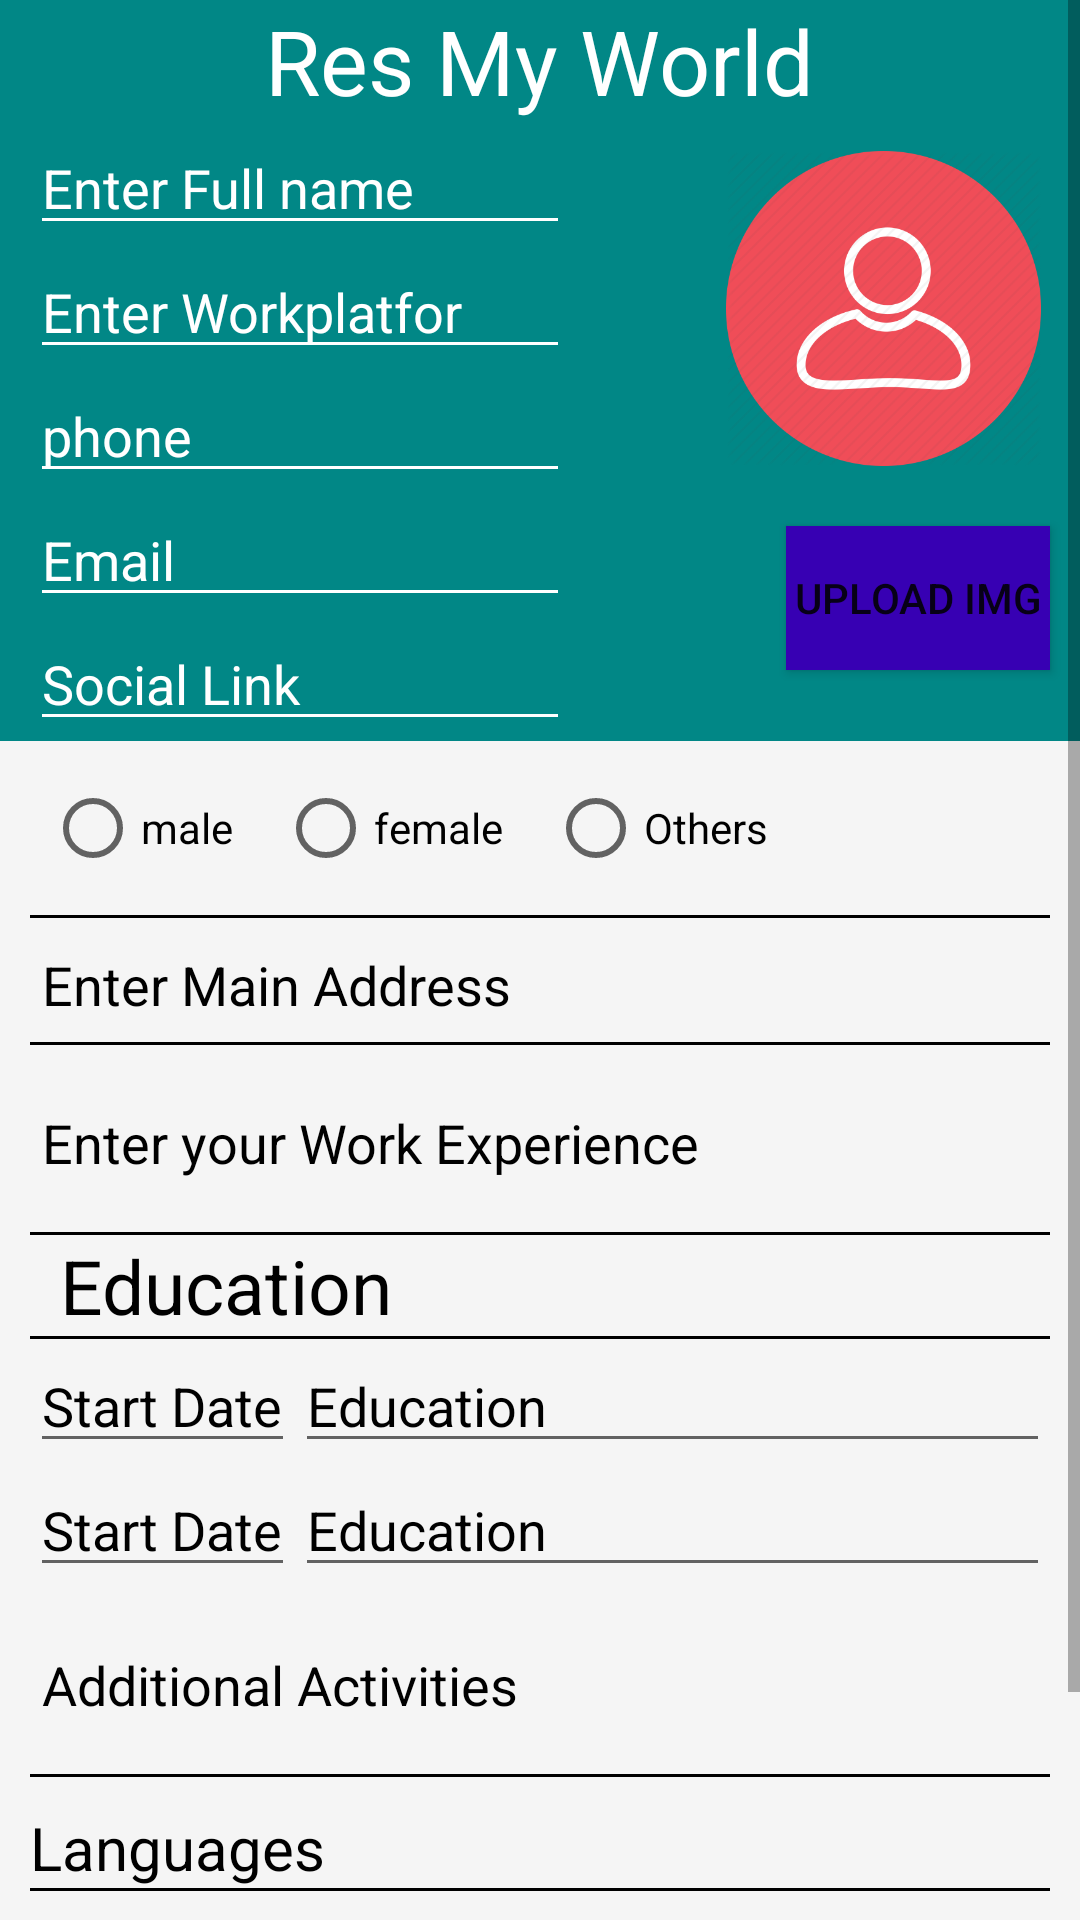

Locate icon controls on the screen. Image size 1080x1920, boxes as (x1, y1, x2, y2).
profile: (726, 151, 1041, 466)
